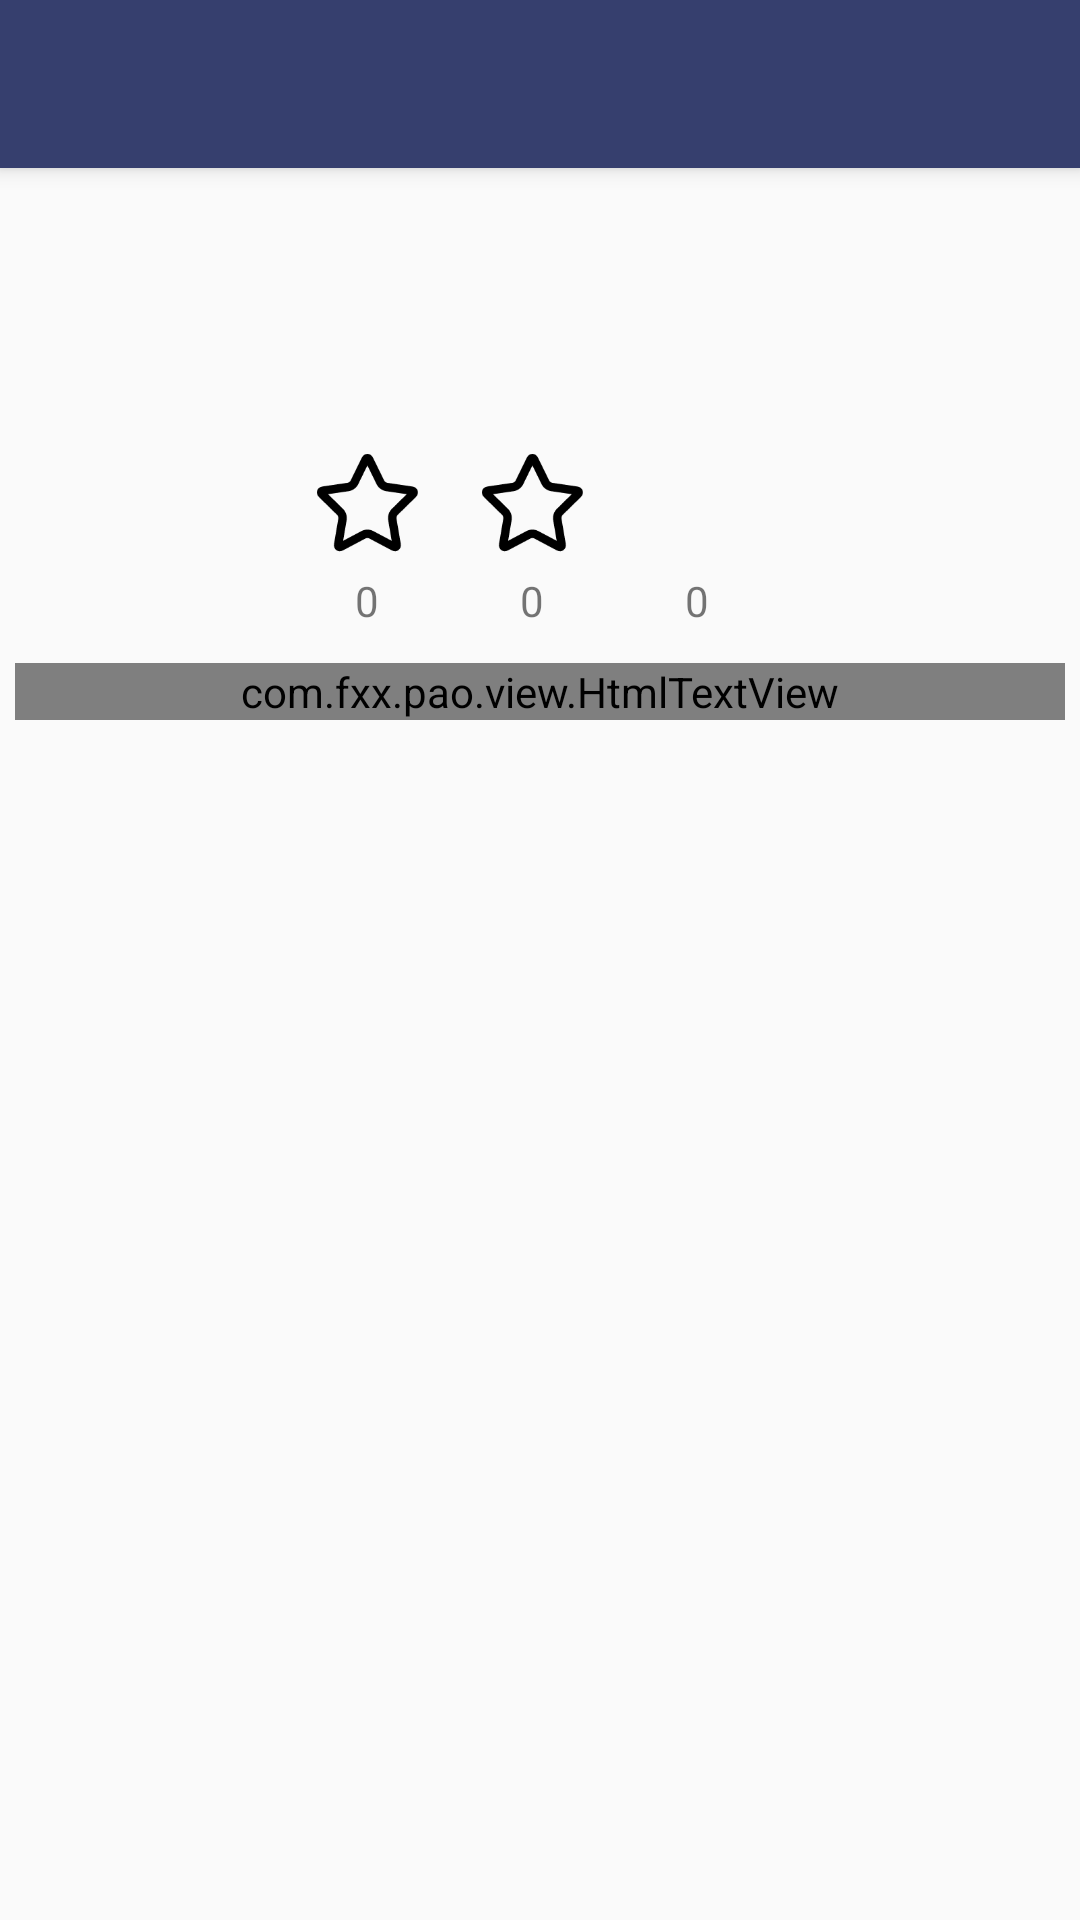

Screen size 1080 × 1920. Icon name, then its box in pixels as (x1, y1, x2, y2):
collection: (317, 454, 418, 552), (482, 454, 583, 552)
